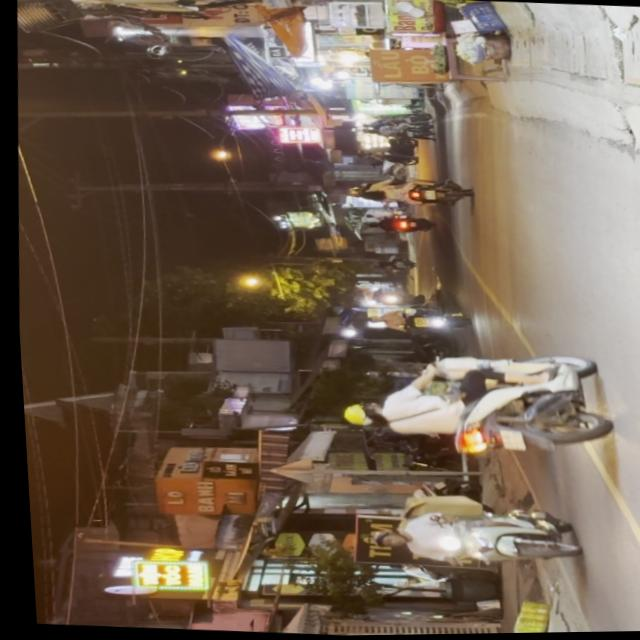helmet: (334, 404, 378, 430), (358, 531, 398, 552)
licenseplate: (326, 344, 613, 467), (353, 493, 576, 574)
nohelmet: (491, 431, 518, 455)
